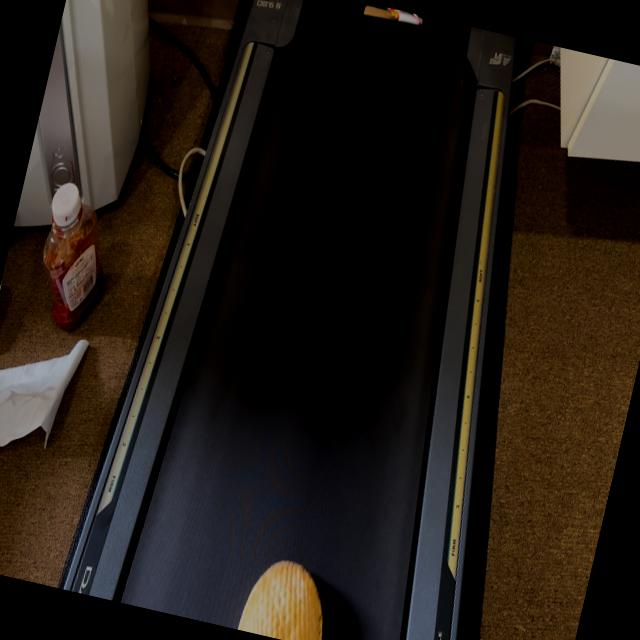Recycle: (362, 4, 396, 20)
Trash: (236, 551, 336, 640), (389, 8, 421, 25)
